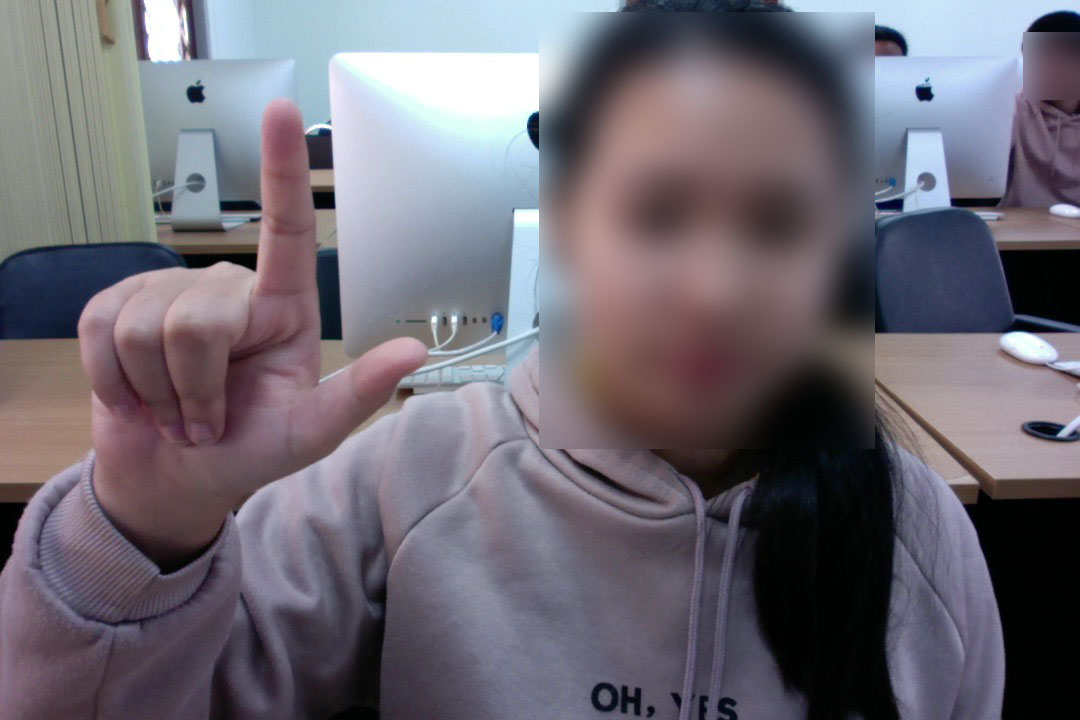lor: (33, 90, 462, 518)
